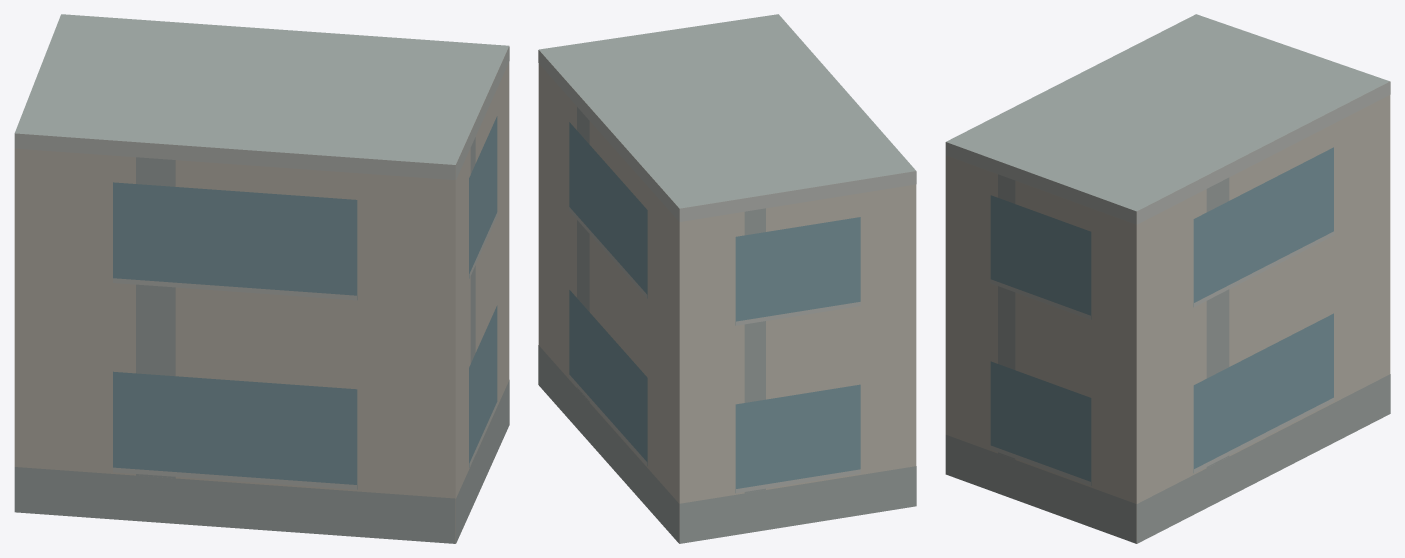
The model's file is survey-upis-32646967.glb.
3 renders of one model, left to right at view 1: azimuth 30°, elevation 25°; view 2: azimuth 150°, elevation 25°; view 3: azimuth 270°, elevation 25°, orthographic. The views are drawn at different scales.
Parts seen in each view (by area): view 1: survey-upis-32646967.tmp; view 2: survey-upis-32646967.tmp; view 3: survey-upis-32646967.tmp.
Part boxes in pixels (box(x1,y1,x2,y2)): survey-upis-32646967.tmp: box(14, 14, 509, 543); survey-upis-32646967.tmp: box(538, 14, 916, 543); survey-upis-32646967.tmp: box(945, 14, 1390, 543).
Size of the model in its own units: 7.78 by 6.1 by 7.4.
